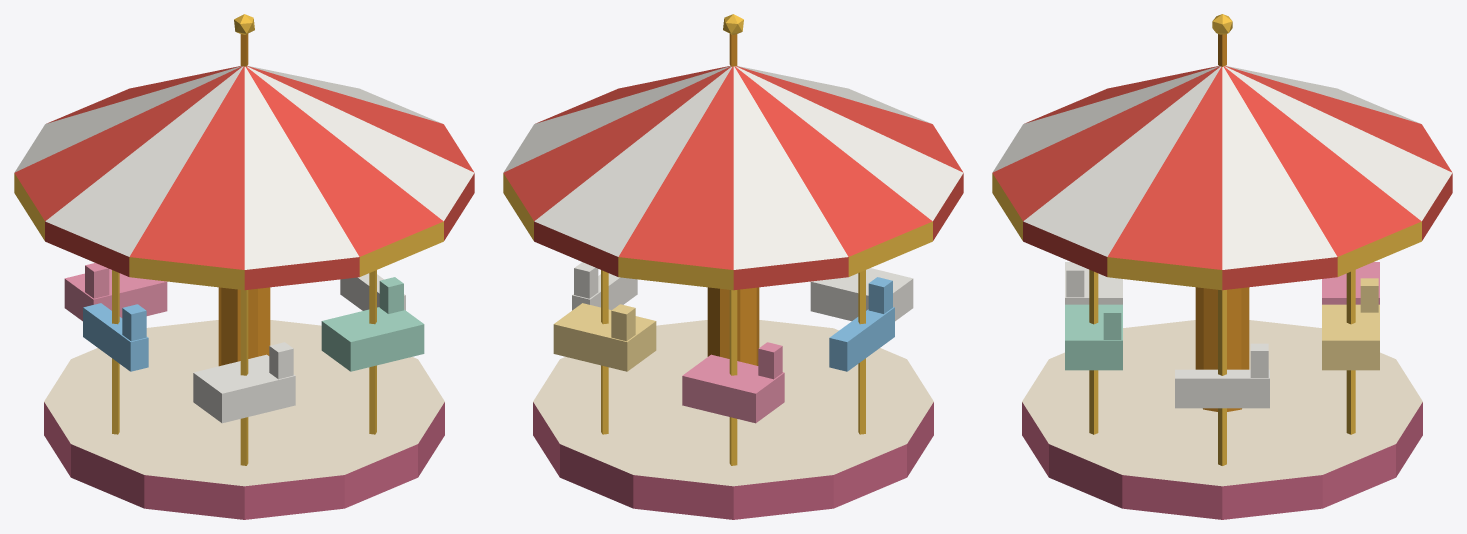
File: P_Carousel.fbx
3 renders of one model, left to right at view 1: azimuth 30°, elevation 25°; view 2: azimuth 150°, elevation 25°; view 3: azimuth 270°, elevation 25°, orthographic.
Visible parts, largest first — view 1: P_Carousel; view 2: P_Carousel; view 3: P_Carousel.
Part boxes in pixels (x1=…): P_Carousel: x1=14, y1=14, x2=474, y2=519; P_Carousel: x1=503, y1=14, x2=963, y2=519; P_Carousel: x1=992, y1=14, x2=1452, y2=519.
Size of the model in its own units: 3.1 by 3.13 by 3.1.
